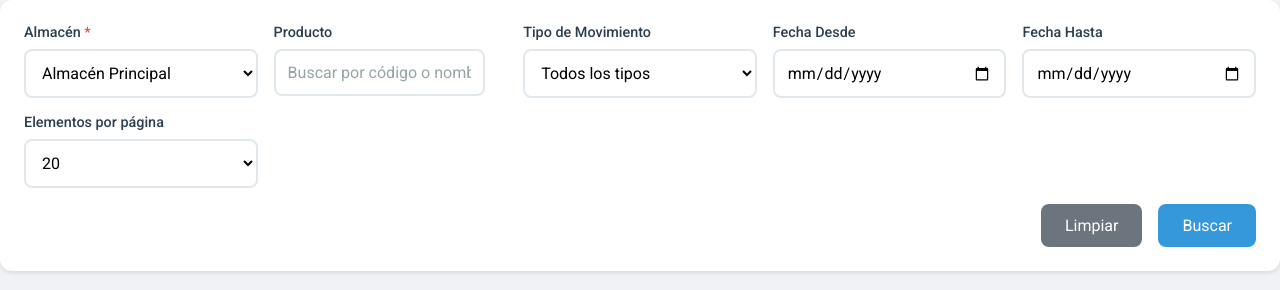
Test: FiltersKardex › Limpieza de filtros › debe limpiar todos los filtros al hacer click en Limpiar
Select "Entrada" in the dropdown with test id "kardex-filter-tipo" at {"x": 640, "y": 74}, box 523,49 -> 757,98
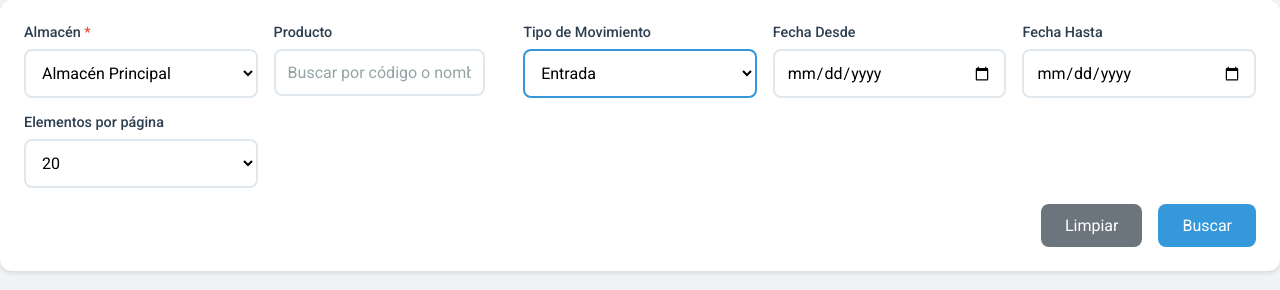
Type "2024-01-01" into the date field with test id "kardex-filter-fecha-desde" at {"x": 890, "y": 74}, box 773,49 -> 1006,98
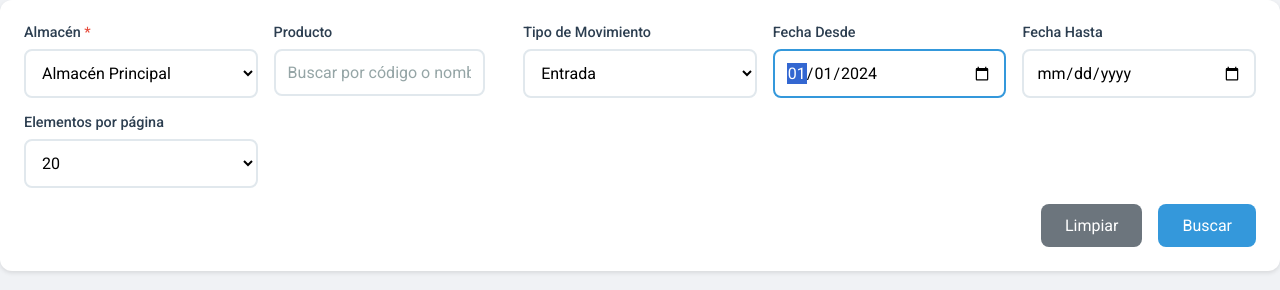
Type "Test Product" into the field with test id "kardex-filter-product-input" at {"x": 379, "y": 72}, box 274,49 -> 485,96
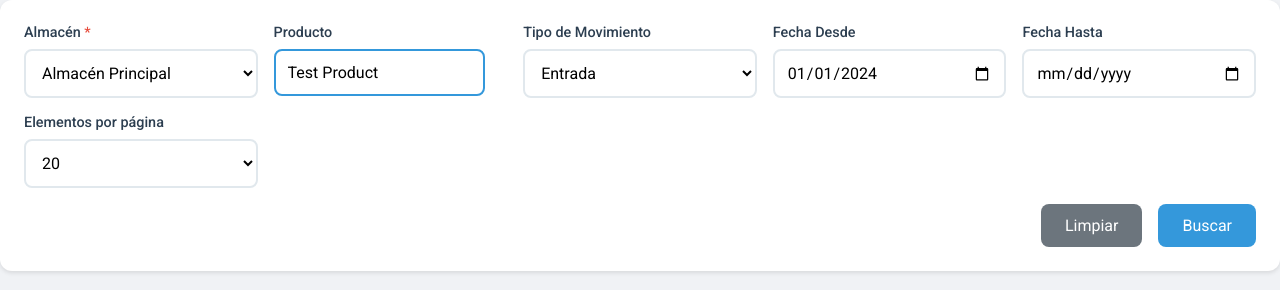
Click the button with test id "kardex-filter-clear" at {"x": 1092, "y": 226}, box 1041,204 -> 1142,247
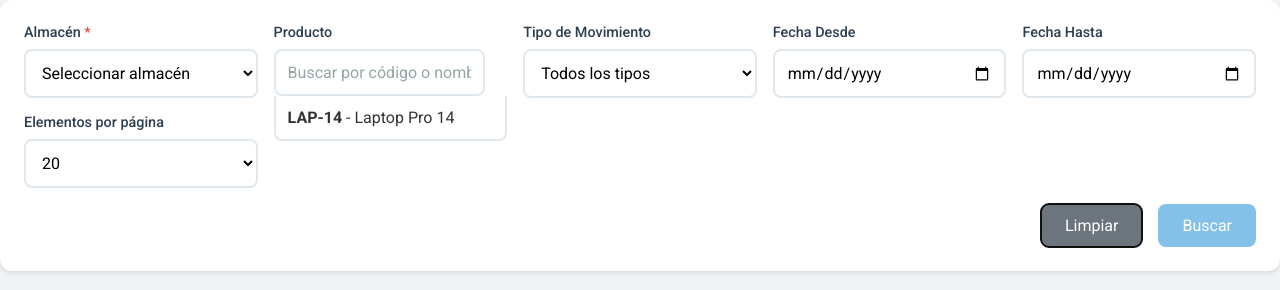
Check: the date field with test id "kardex-filter-fecha-desde" is empty, box 773,49 -> 1006,98
Check: the field with test id "kardex-filter-product-input" is empty, box 274,49 -> 485,96
